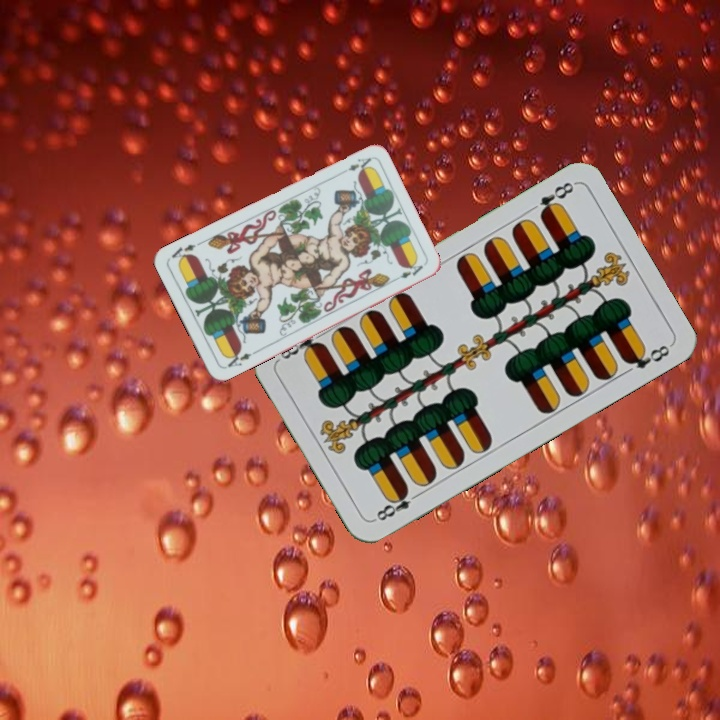E8: (370, 484, 424, 524), (535, 177, 577, 220)
EA: (221, 346, 259, 371), (343, 153, 374, 176)
